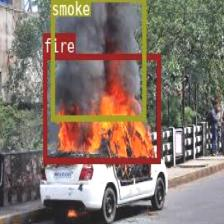fire: (42, 54, 160, 162)
smoke: (49, 0, 144, 120)
